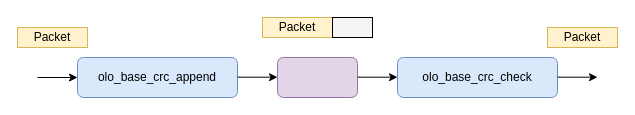
The diagram is 635 pixels wide and 115 high, and some of its shapes have lost their labels. Here are the shapes that lost their labels. From the top down, the box of each, then its label:
(332, 16, 372, 38): CRC
(276, 56, 358, 98): Any Channel
